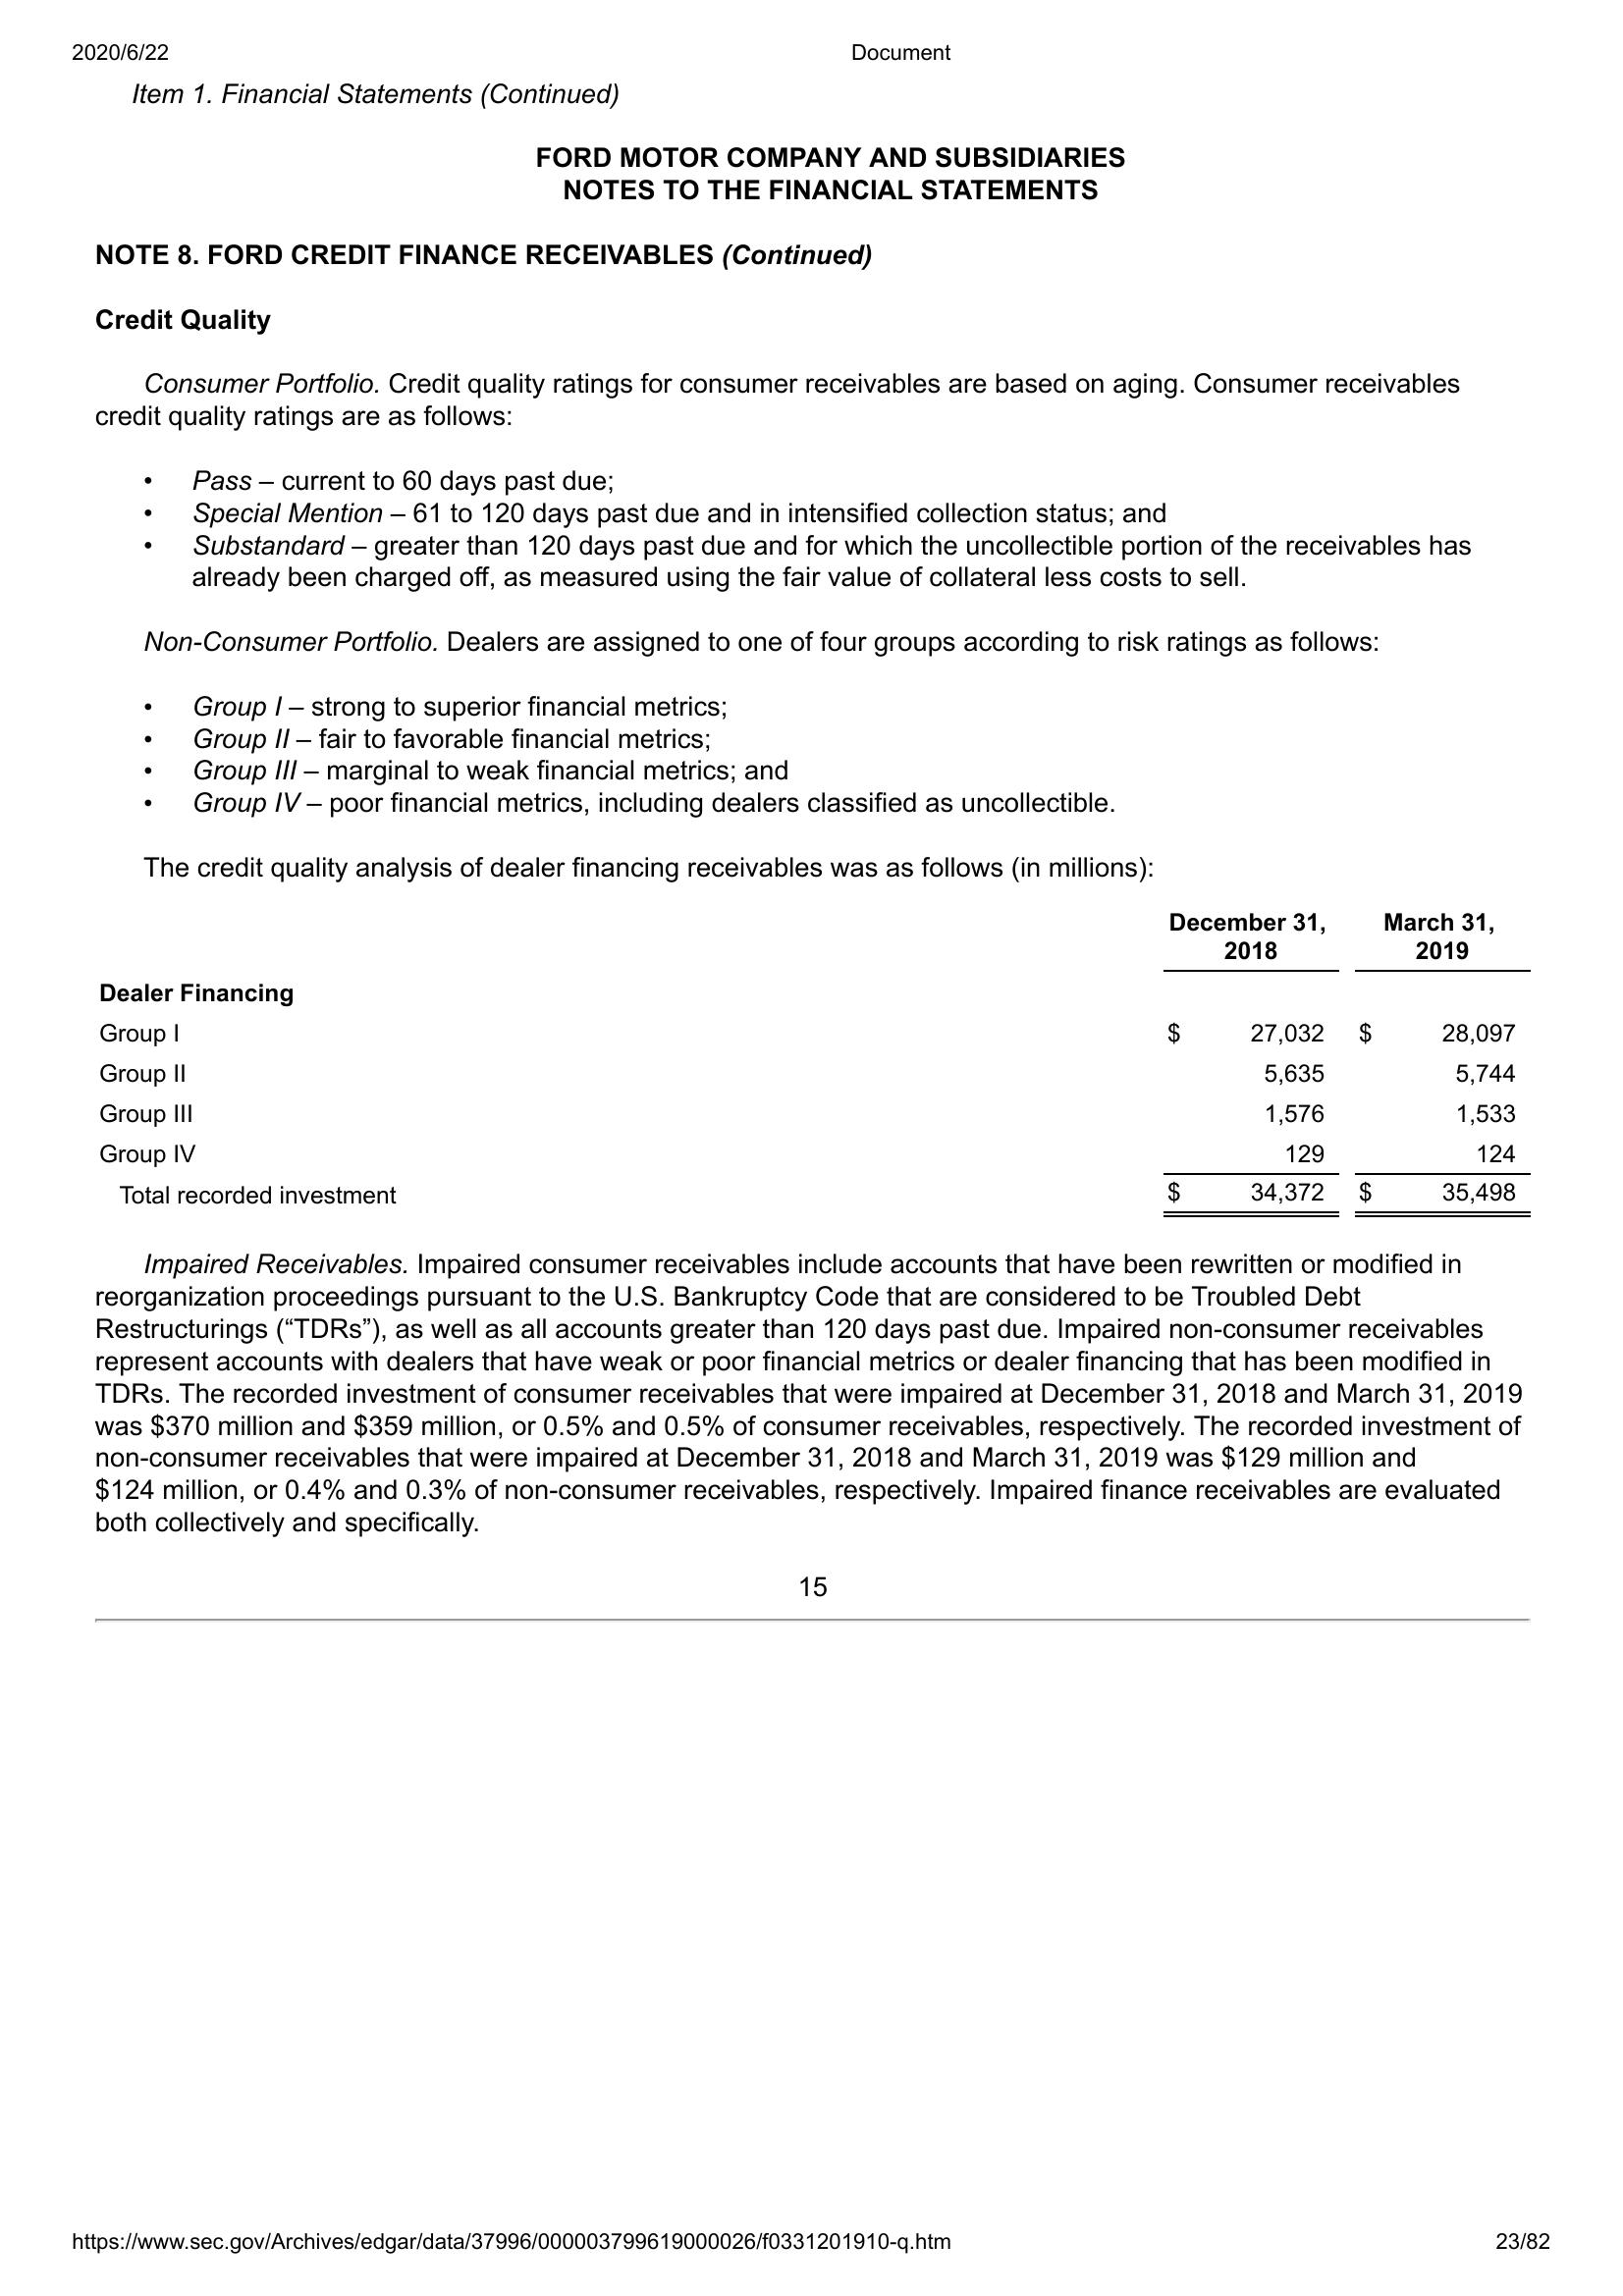table: (90, 899, 1535, 1223)
